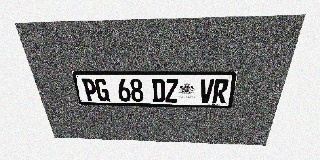6: (116, 78, 131, 102)
8: (129, 79, 144, 102)
D: (152, 79, 165, 102)
G: (94, 78, 110, 101)
P: (82, 78, 98, 101)
R: (212, 79, 229, 103)
V: (199, 79, 215, 103)
Z: (165, 79, 178, 102)
